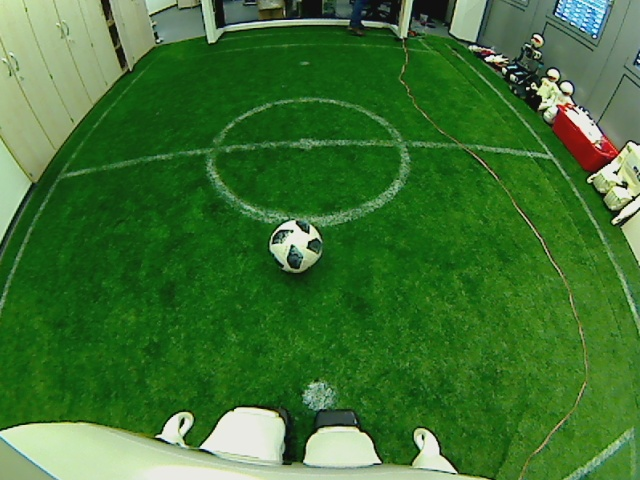ball: (266, 217, 324, 274)
